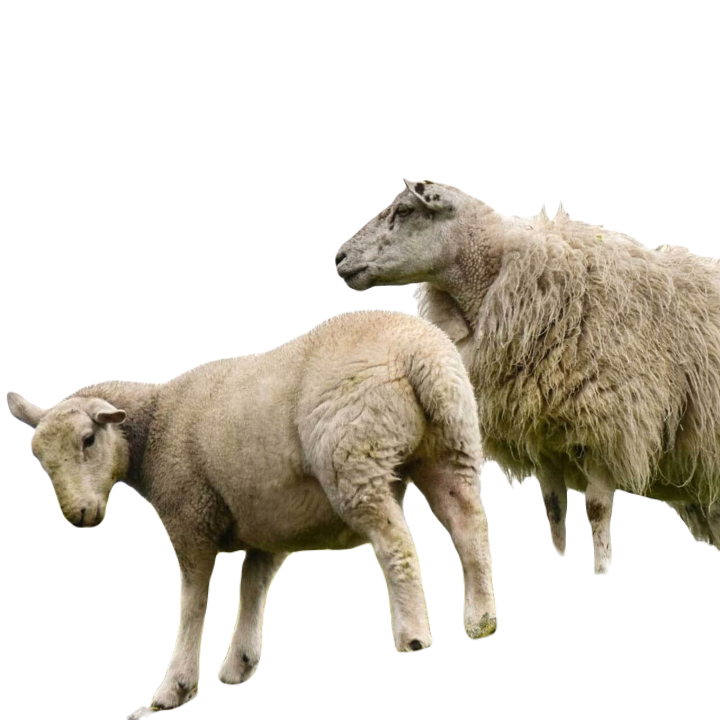Sheep: (1, 315, 497, 714), (347, 151, 720, 529)
